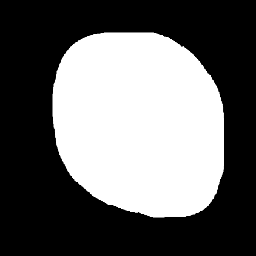mass: (57, 31, 213, 209)
